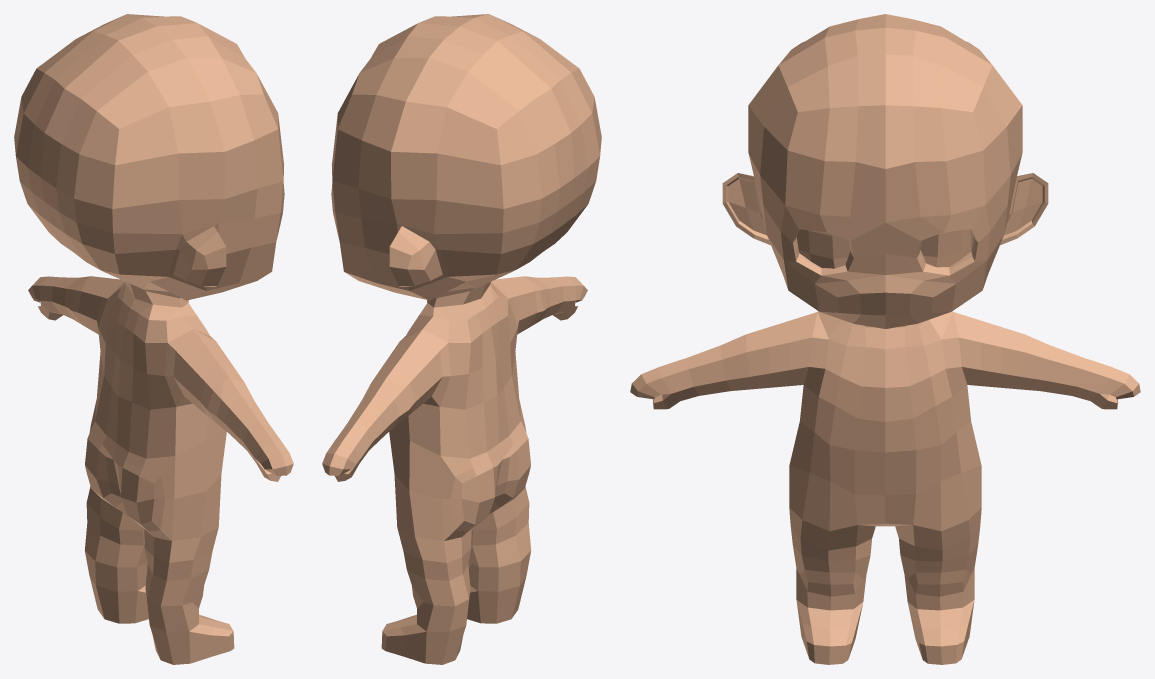
File: enemigo proyecto 40h.fbx
3 views of the same model, side by side, from view 1: azimuth 30°, elevation 25°; view 2: azimuth 150°, elevation 25°; view 3: azimuth 270°, elevation 25° (orthographic).
Visible parts, largest first — view 1: Cube.004; view 2: Cube.004; view 3: Cube.004.
Boxes of the visible parts, x1,y1,x2,y2 form: Cube.004: (14,14,293,664); Cube.004: (322,14,601,664); Cube.004: (630,14,1140,664).
Bounding box in the file's own units: 194 × 513 × 386.
